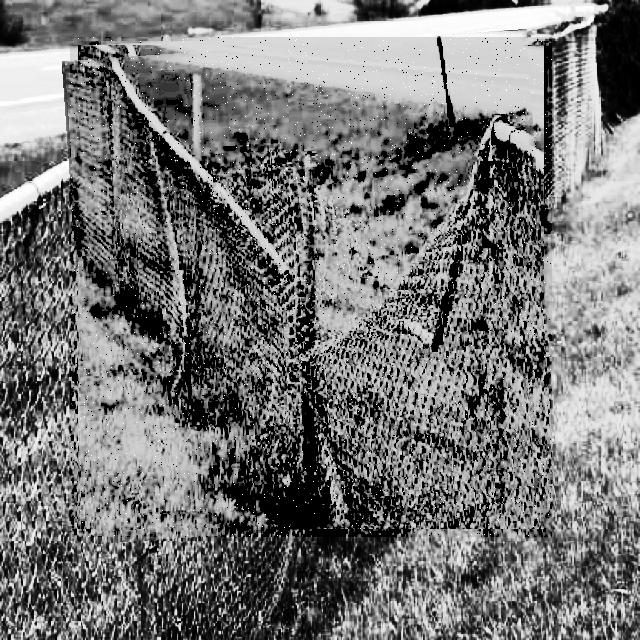anomaly-fence: (70, 37, 552, 537)
